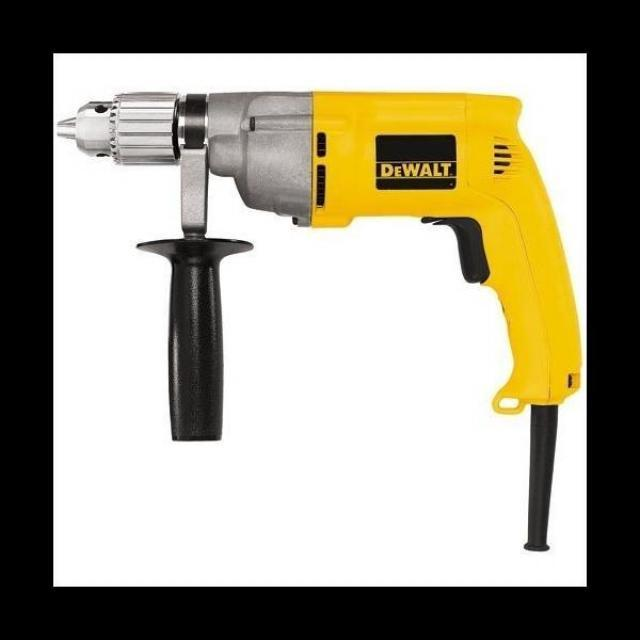drill: (57, 91, 582, 552)
